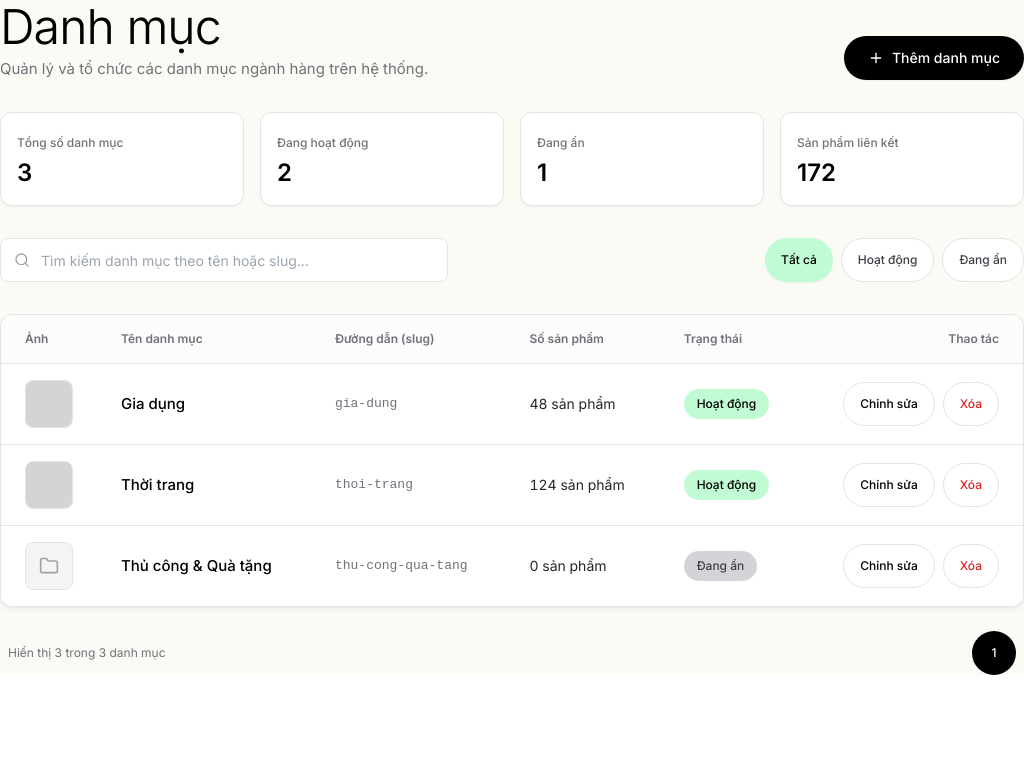
AdminCategoryPage (Stitch Screen 1 & DESIGN.md) › opens drawer in create mode on "+ Thêm danh mục" click
This screenshot has width=1024, height=768.
Click the button "Thêm danh mục". click: click(934, 58)
box: x1=844 y1=36 x2=1023 y2=80
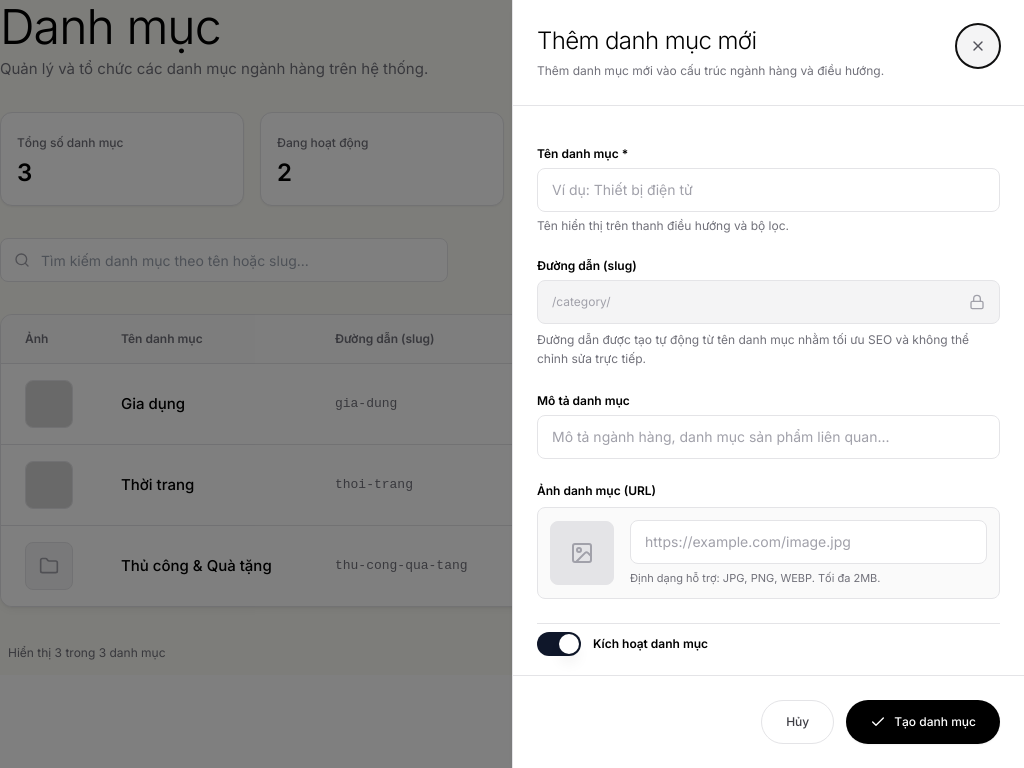
Expected: the dialog with test id "category-form-drawer" is shown, x1=512 y1=0 x2=1023 y2=767
Expected: the heading "Thêm danh mục mới" is shown, x1=537 y1=26 x2=756 y2=55
